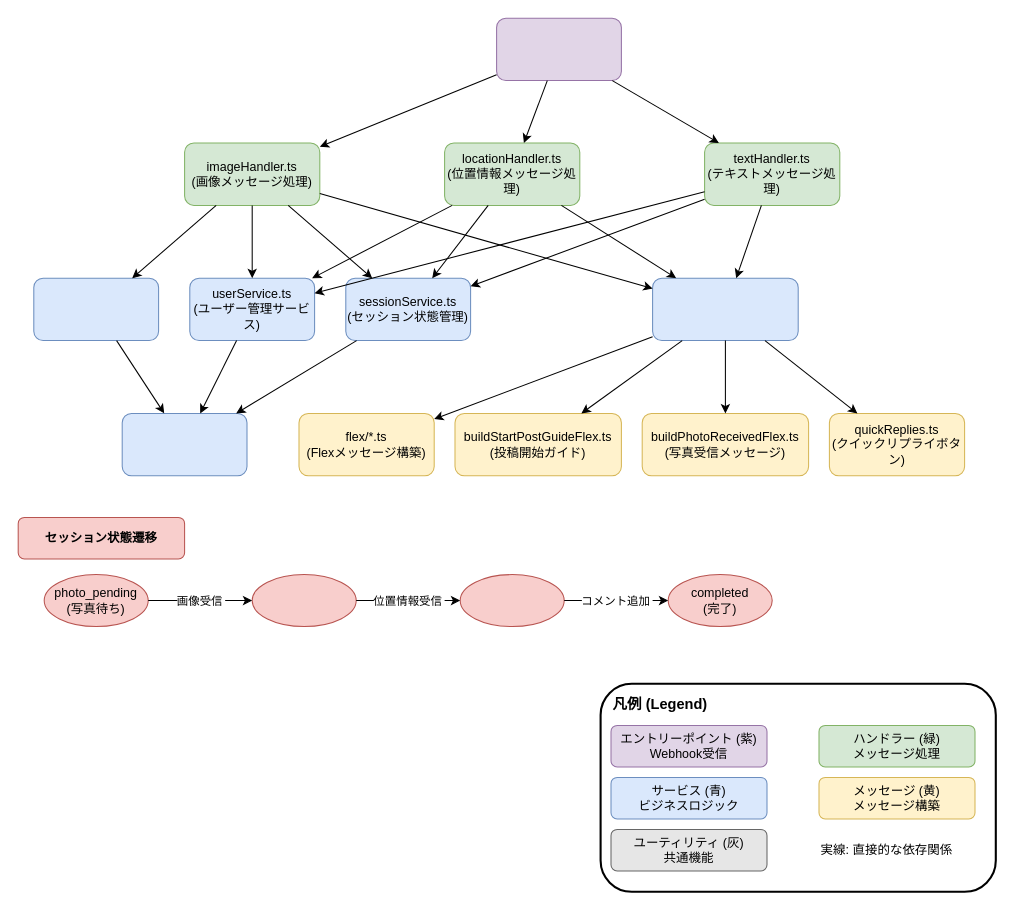
This 1015x911 diagram has some shape labels left out. Each missing label, with the centre of its shape:
comment_pending (コメント待ち): (x=511, y=600)
gps_pending (位置情報待ち): (x=303, y=600)
index.ts (Webhook受信エントリーポイント): (x=558, y=49)
lineMessagingService.ts (LINE Bot SDK ラッパー): (x=725, y=309)
storageService.ts (ファイルストレージ管理): (x=96, y=309)
supabaseClient.ts (データベースクライアント): (x=184, y=444)
